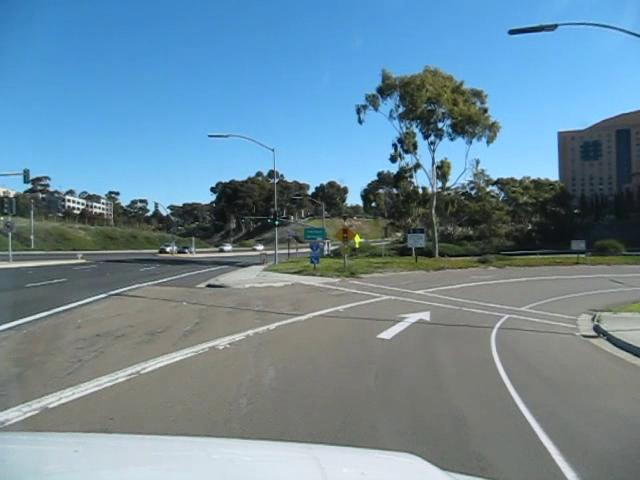signalAhead: (334, 224, 356, 246)
